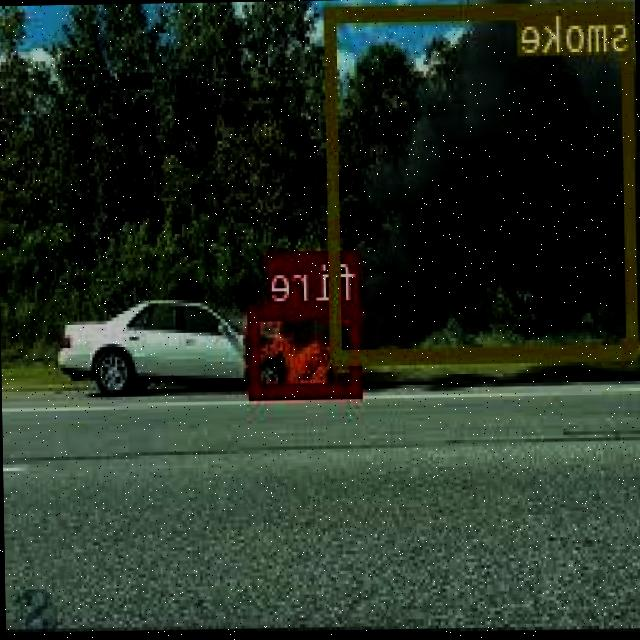fire: (250, 302, 363, 395)
smoke: (326, 0, 639, 359)
